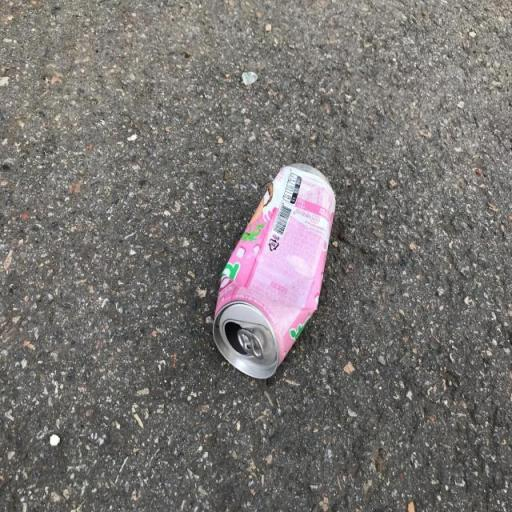metal: (181, 126, 373, 424)
